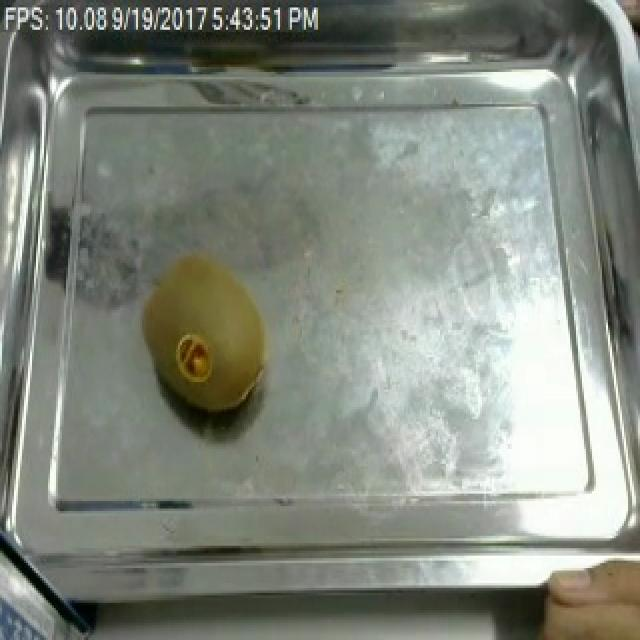Fruit: (134, 243, 276, 422), (518, 543, 640, 640)
